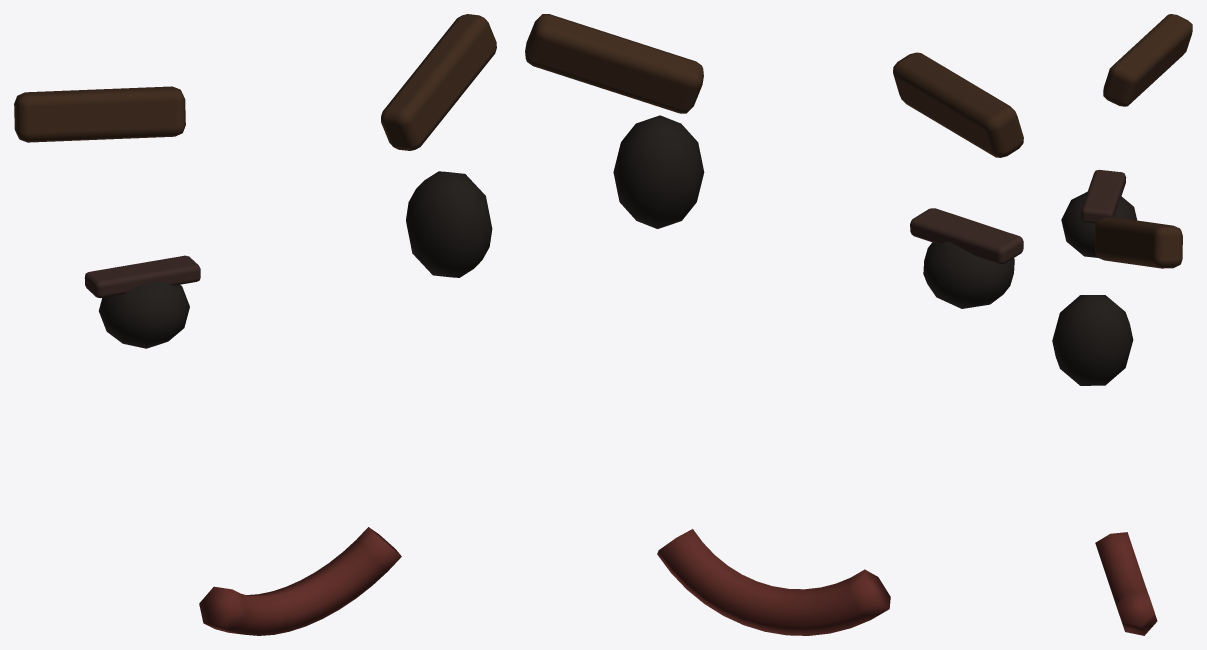
File: 20-swagger.glb
The picture shows the model from 3 angles, left to right: view 1: azimuth 30°, elevation 25°; view 2: azimuth 150°, elevation 25°; view 3: azimuth 270°, elevation 25°; orthographic projection. The views are drawn at different scales.
Parts seen in each view (by area): view 1: Face20_Mouth, Face20_Brow-1, Face20_Brow1, Face20_Eye1, Face20_Eye-1, Face20_Eyelid-1; view 2: Face20_Mouth, Face20_Brow1, Face20_Eye1, Face20_Brow-1, Face20_Eye-1, Face20_Eyelid-1; view 3: Face20_Eye1, Face20_Brow-1, Face20_Brow1, Face20_Mouth, Face20_Eyelid-1, Face20_Eye-1.
Boxes of the visible parts, x1,y1,x2,y2 form: Face20_Mouth: (199, 527, 401, 635); Face20_Brow-1: (14, 86, 185, 142); Face20_Brow1: (381, 14, 496, 150); Face20_Eye1: (406, 171, 492, 277); Face20_Eye-1: (99, 281, 189, 348); Face20_Eyelid-1: (84, 255, 200, 298); Face20_Mouth: (657, 529, 890, 635); Face20_Brow1: (525, 14, 703, 113); Face20_Eye1: (613, 115, 704, 228); Face20_Brow-1: (893, 52, 1023, 157); Face20_Eye-1: (923, 241, 1014, 308); Face20_Eyelid-1: (910, 208, 1023, 264); Face20_Eye1: (1052, 295, 1133, 385); Face20_Brow-1: (1103, 14, 1192, 106); Face20_Brow1: (1095, 217, 1182, 268); Face20_Mouth: (1095, 532, 1157, 635); Face20_Eyelid-1: (1080, 169, 1126, 223); Face20_Eye-1: (1061, 191, 1137, 257).
Size of the model in its own units: 0.2924 by 0.3388 by 0.0856.
